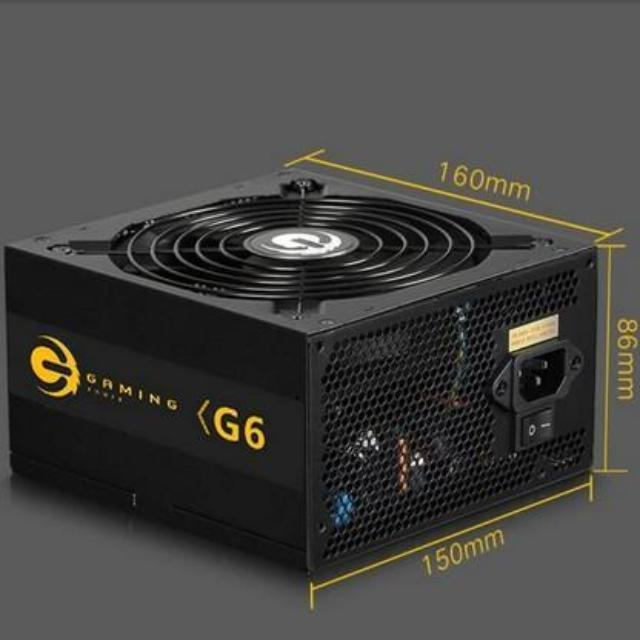PSU: (0, 160, 606, 586)
